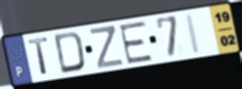7: (153, 15, 180, 60)
D: (53, 30, 88, 76)
E: (117, 19, 155, 66)
I: (184, 12, 203, 56)
T: (27, 36, 51, 77)
Z: (88, 24, 125, 70)
